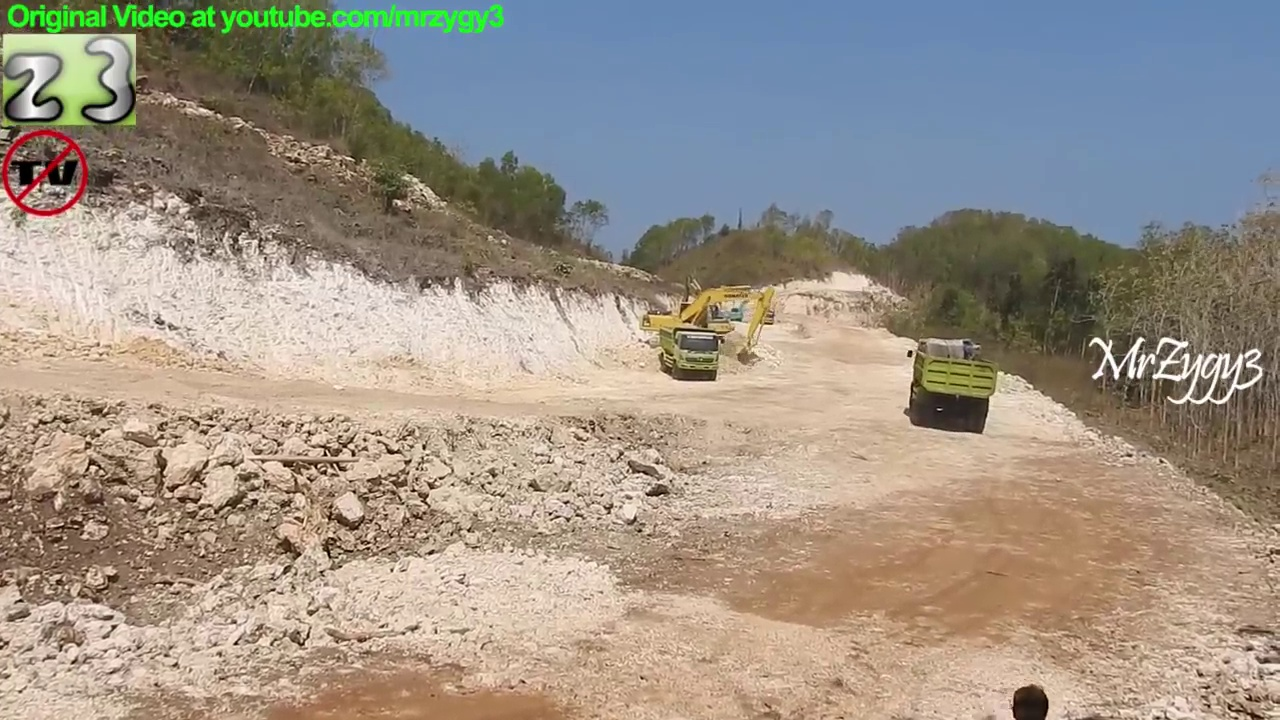excavator: (640, 283, 778, 368), (675, 276, 737, 345), (727, 289, 754, 326)
truck: (905, 333, 998, 436), (658, 323, 727, 383), (755, 303, 779, 328)
